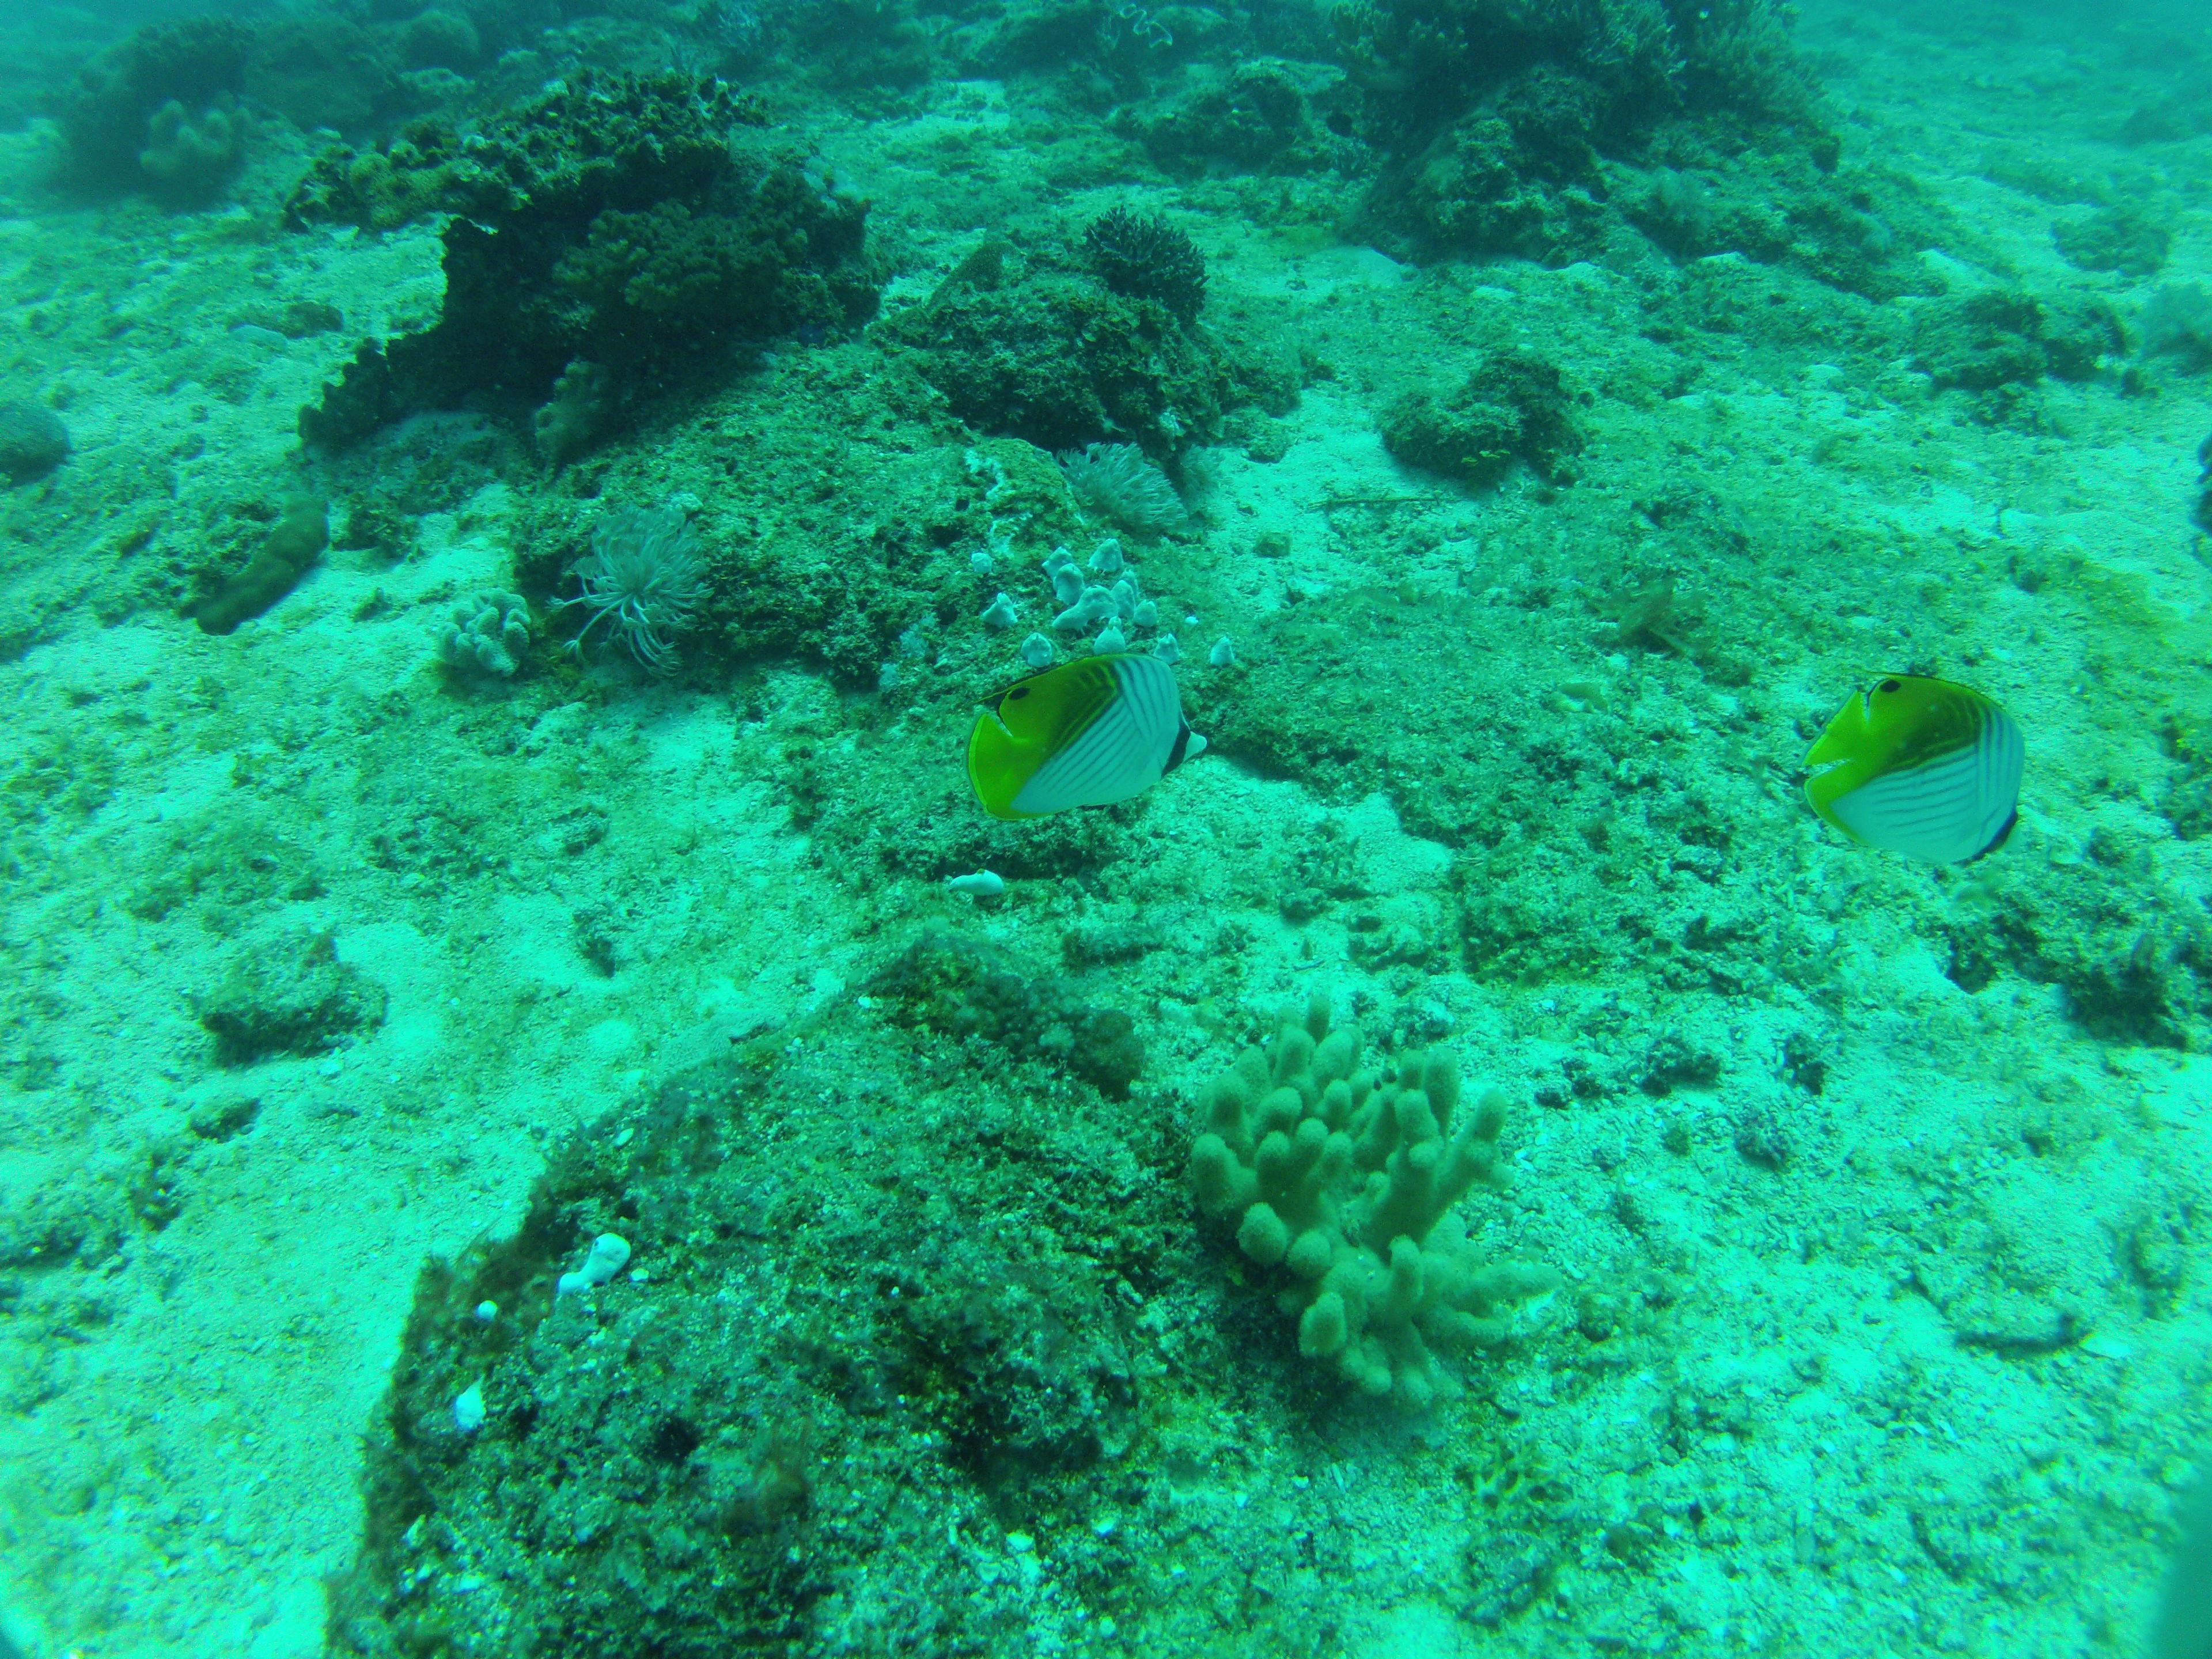Fish: (1801, 660, 2036, 885), (972, 648, 1219, 833)
